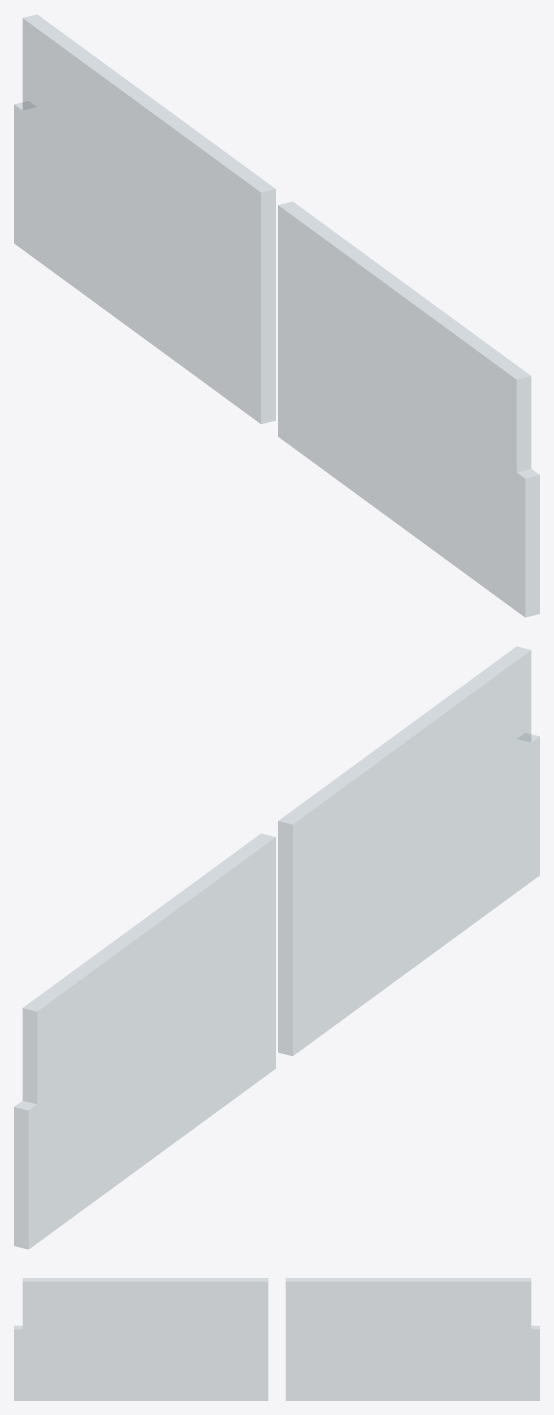
File: utility_4x4_windscreen.glb
3 views of the same model, one above another, from view 1: azimuth 30°, elevation 25°; view 2: azimuth 150°, elevation 25°; view 3: azimuth 270°, elevation 25° (orthographic). The views are drawn at different scales.
Parts seen in each view (by area): view 1: body:compound; view 2: body:compound; view 3: body:compound.
Boxes of the visible parts, <box> form: body:compound: <box>14,14,539,617</box>; body:compound: <box>14,646,539,1249</box>; body:compound: <box>14,1278,539,1400</box>.
Bounding box in the file's own units: 0.0312 × 0.4688 × 1.88.
